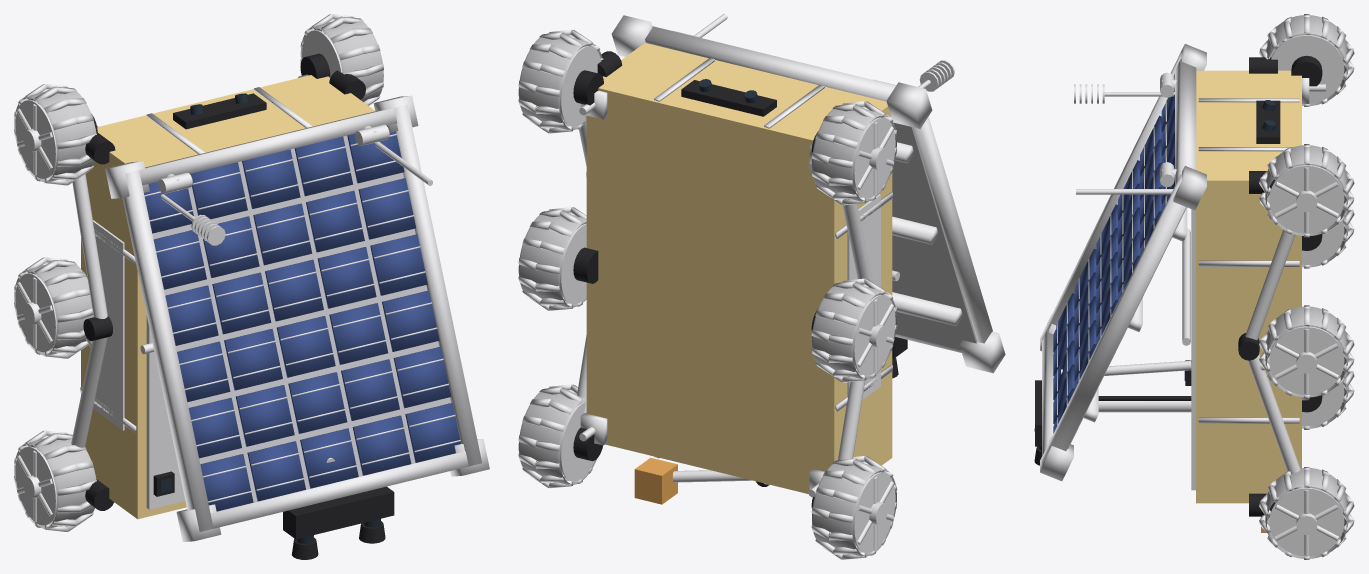
File: rover_B.obj
3 renders of one model, left to right at view 1: azimuth 30°, elevation 25°; view 2: azimuth 150°, elevation 25°; view 3: azimuth 270°, elevation 25°, orthographic. The views are drawn at different scales.
Parts seen in each view (by area): view 1: tilt_panel_cells, tilt_panel_frame, chassis, tilt_panel_substrate, tilt_panel_busbars, radiator, chassis_top_deck, navcam_bar, wheel_FR_flanges, wheel_MR_flanges, wheel_RR_flanges, wheel_RR_tyre (+19 smaller); view 2: chassis, tilt_panel_frame, tilt_panel_substrate, wheel_RR_tyre, wheel_FR_tyre, wheel_MR_tyre, wheel_FR_flanges, wheel_RR_flanges, wheel_MR_flanges, wheel_RL_tyre, wheel_ML_tyre, wheel_FL_tyre (+22 smaller); view 3: chassis, tilt_panel_frame, tilt_panel_cells, wheel_ML_flanges, wheel_RL_flanges, wheel_FL_flanges, wheel_RR_flanges, chassis_mli_seams, tilt_panel_busbars, bogie_front_1, rocker_1, wheel_RL_grousers (+23 smaller).
Boxes of the visible parts, x1,y1,x2,y2 form: tilt_panel_cells: [144, 125, 460, 511]; tilt_panel_frame: [105, 95, 489, 541]; chassis: [81, 75, 375, 519]; tilt_panel_substrate: [152, 135, 450, 502]; tilt_panel_busbars: [144, 133, 460, 502]; radiator: [93, 220, 124, 430]; chassis_top_deck: [146, 315, 185, 509]; navcam_bar: [283, 486, 394, 539]; wheel_FR_flanges: [15, 446, 57, 525]; wheel_MR_flanges: [15, 273, 57, 352]; wheel_RR_flanges: [15, 100, 57, 178]; wheel_RR_tyre: [14, 87, 96, 181]; chassis: [586, 43, 892, 493]; tilt_panel_frame: [611, 15, 1005, 373]; tilt_panel_substrate: [892, 122, 977, 349]; wheel_RR_tyre: [812, 104, 896, 201]; wheel_FR_tyre: [812, 463, 896, 556]; wheel_MR_tyre: [812, 281, 896, 379]; wheel_FR_flanges: [853, 472, 895, 553]; wheel_RR_flanges: [853, 117, 895, 198]; wheel_MR_flanges: [853, 295, 895, 375]; wheel_RL_tyre: [518, 32, 602, 130]; wheel_ML_tyre: [518, 210, 586, 307]; wheel_FL_tyre: [518, 387, 596, 484]; chassis: [1196, 70, 1301, 503]; tilt_panel_frame: [1040, 44, 1206, 481]; tilt_panel_cells: [1053, 91, 1174, 433]; wheel_ML_flanges: [1269, 325, 1344, 395]; wheel_RL_flanges: [1269, 164, 1344, 233]; wheel_FL_flanges: [1269, 486, 1344, 556]; wheel_RR_flanges: [1269, 33, 1344, 103]; chassis_mli_seams: [1198, 98, 1299, 423]; tilt_panel_busbars: [1057, 100, 1166, 425]; bogie_front_1: [1247, 353, 1303, 489]; rocker_1: [1245, 230, 1295, 340]; wheel_RL_grousers: [1259, 144, 1354, 237].
Size of the model in its own units: 0.76 by 0.9504 by 0.6652.
10 materials, 10 textured.
